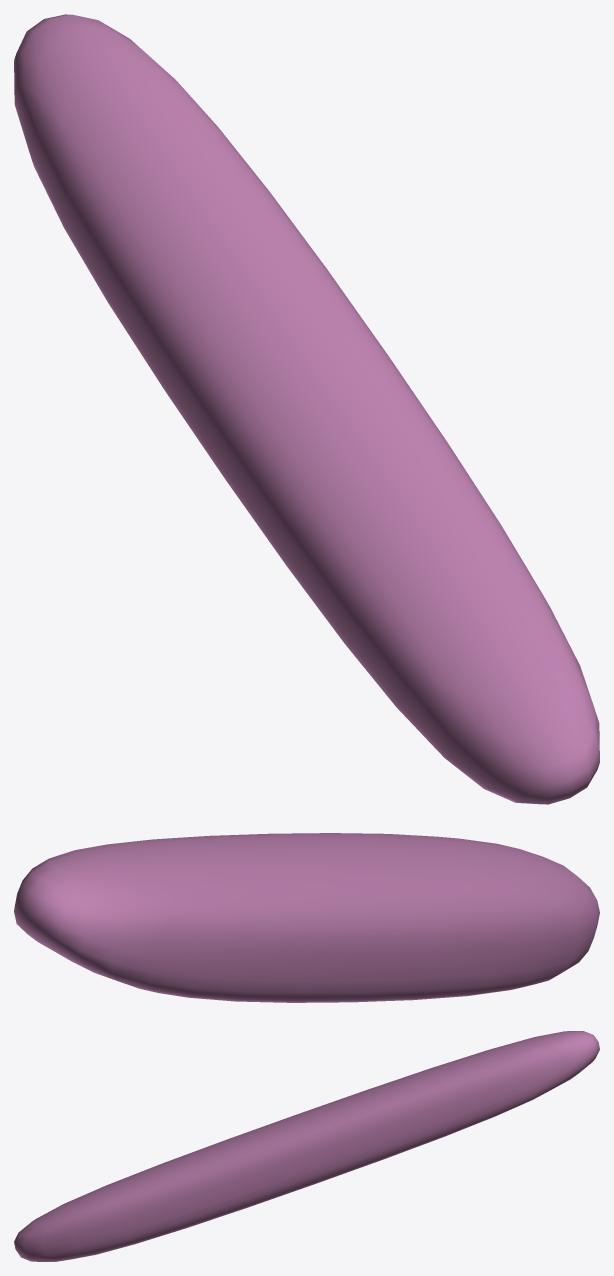
3 renders of one model, top to bottom at view 1: azimuth 30°, elevation 25°; view 2: azimuth 150°, elevation 25°; view 3: azimuth 270°, elevation 25°, orthographic. The views are drawn at different scales.
Visible parts, largest first — view 1: 右侧舌下神经核; view 2: 右侧舌下神经核; view 3: 右侧舌下神经核.
Boxes of the visible parts, x1,y1,x2,y2 form: 右侧舌下神经核: [14, 14, 599, 804]; 右侧舌下神经核: [14, 833, 599, 1002]; 右侧舌下神经核: [14, 1031, 599, 1261].
Size of the model in its own units: 0.00193 by 0.00471 by 0.0109.
